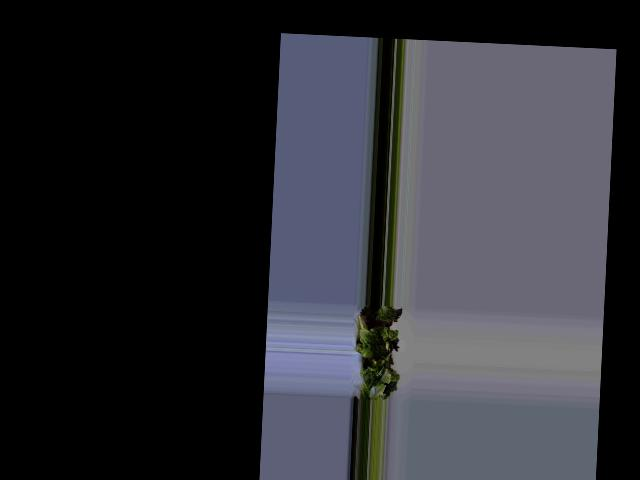lettuce: (359, 307, 398, 395)
